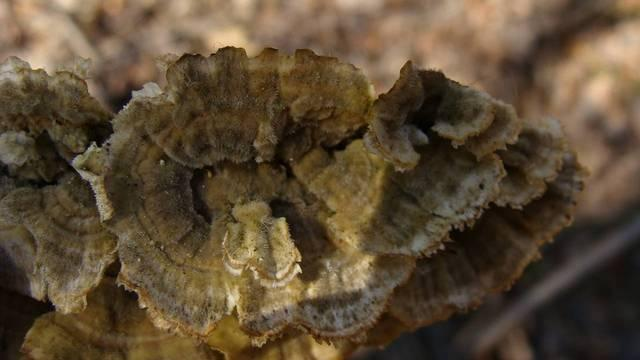poisonous_mushroom: (65, 43, 588, 350)
